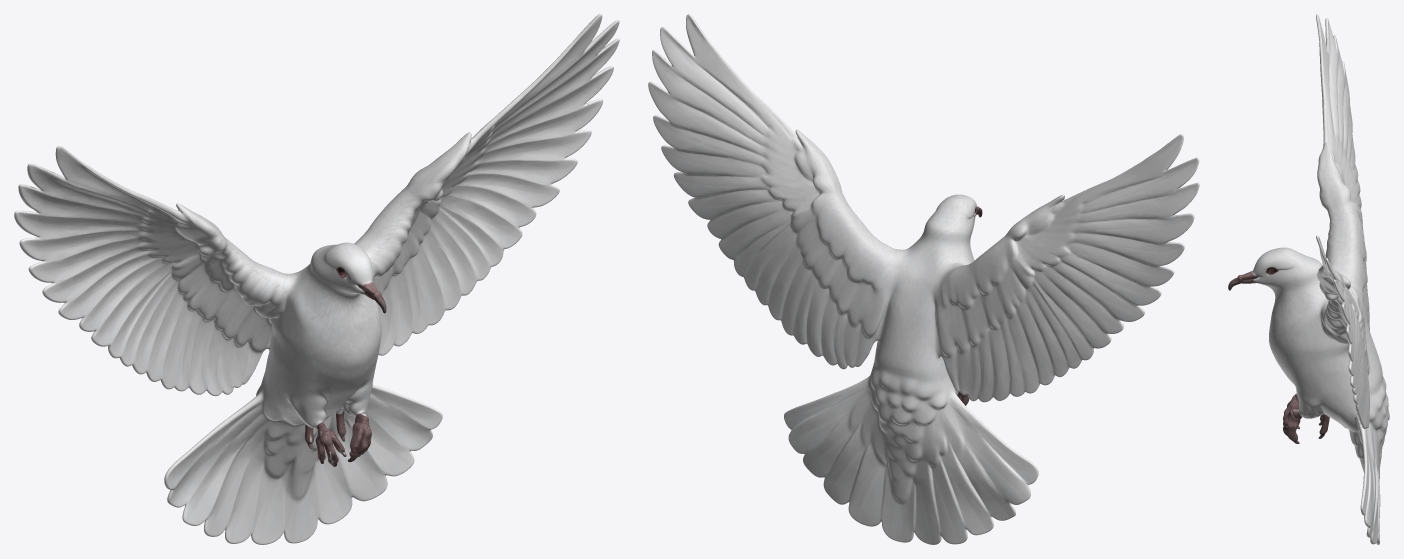
File: white-dove.glb
The picture shows the model from 3 angles, left to right: view 1: azimuth 30°, elevation 25°; view 2: azimuth 150°, elevation 25°; view 3: azimuth 270°, elevation 25°; orthographic projection. The views are drawn at different scales.
Bounding box in the file's own units: 1.9 × 1.48 × 0.5283.
1 material, 1 textured.
